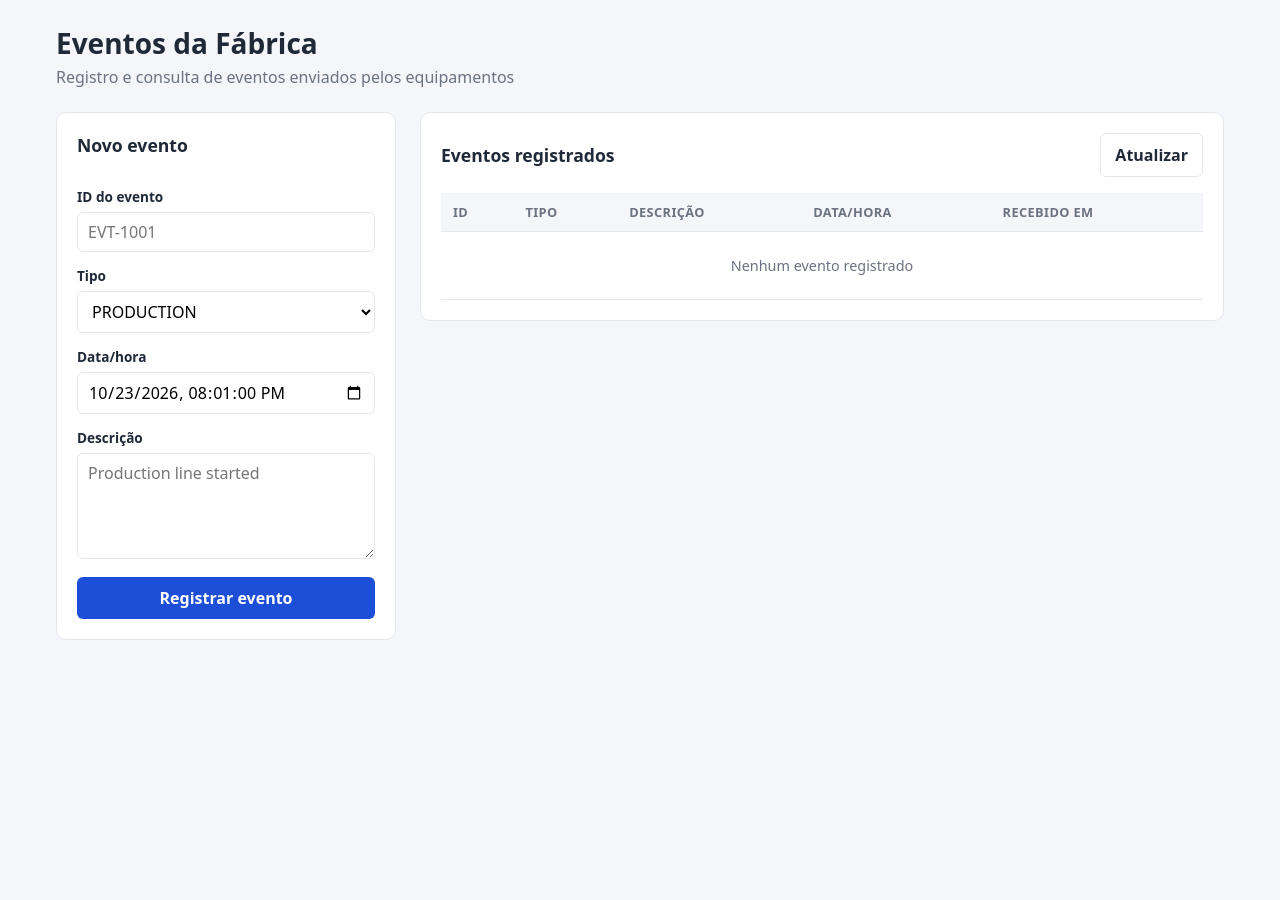
Test: App › exibe mensagem de sucesso ao registrar evento
Expected: the text "Nenhum evento registrado" is shown, 441,232 -> 1203,300
Step 1. Type "EVT-9" into the field labelled "ID do evento" → (226,232), box 77,212 -> 375,252
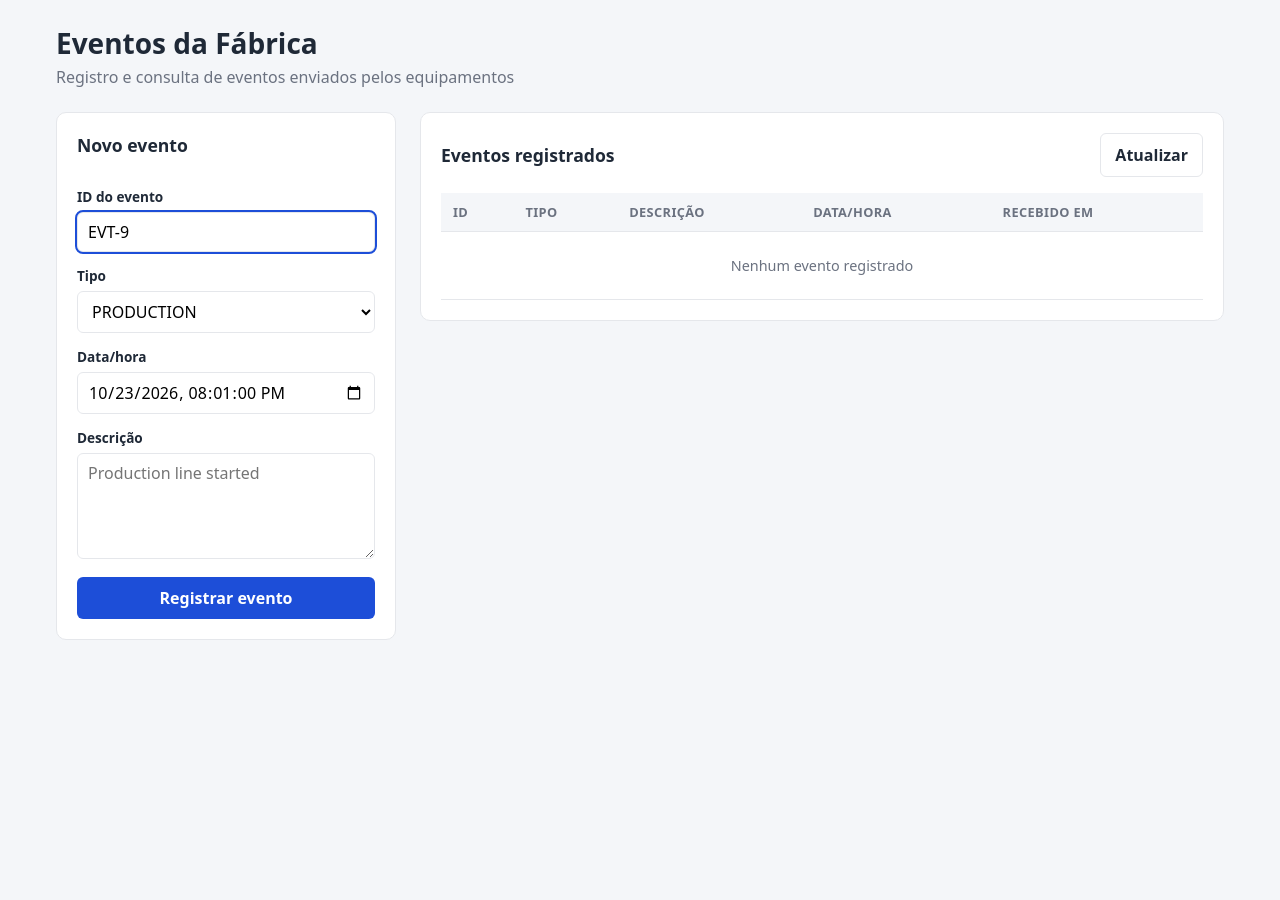
Step 2. Type "Linha iniciada" into the text box labelled "Descrição" → (226,506), box 77,453 -> 375,559
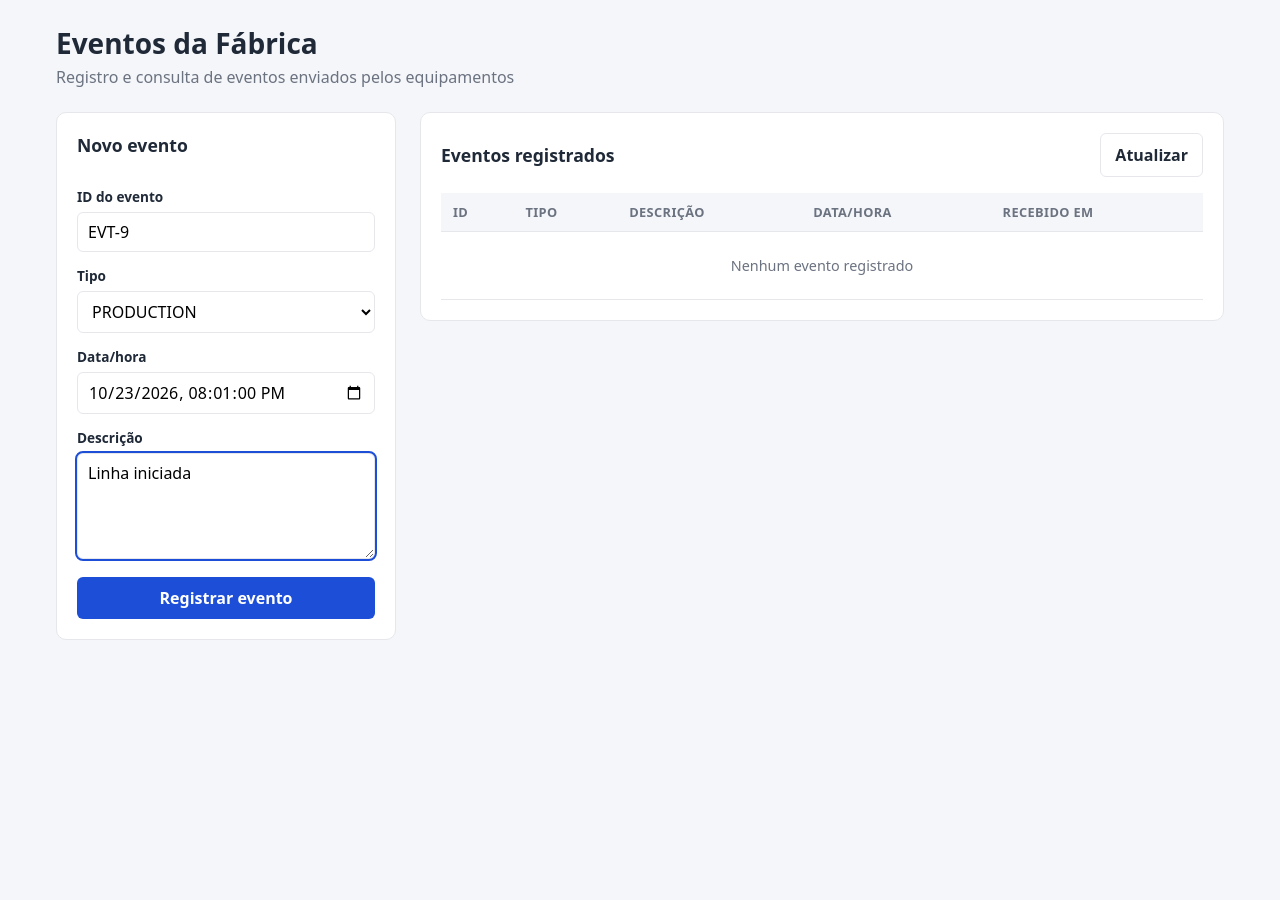
Step 3. Click the button "Registrar evento" → (226,598), box 77,577 -> 375,619
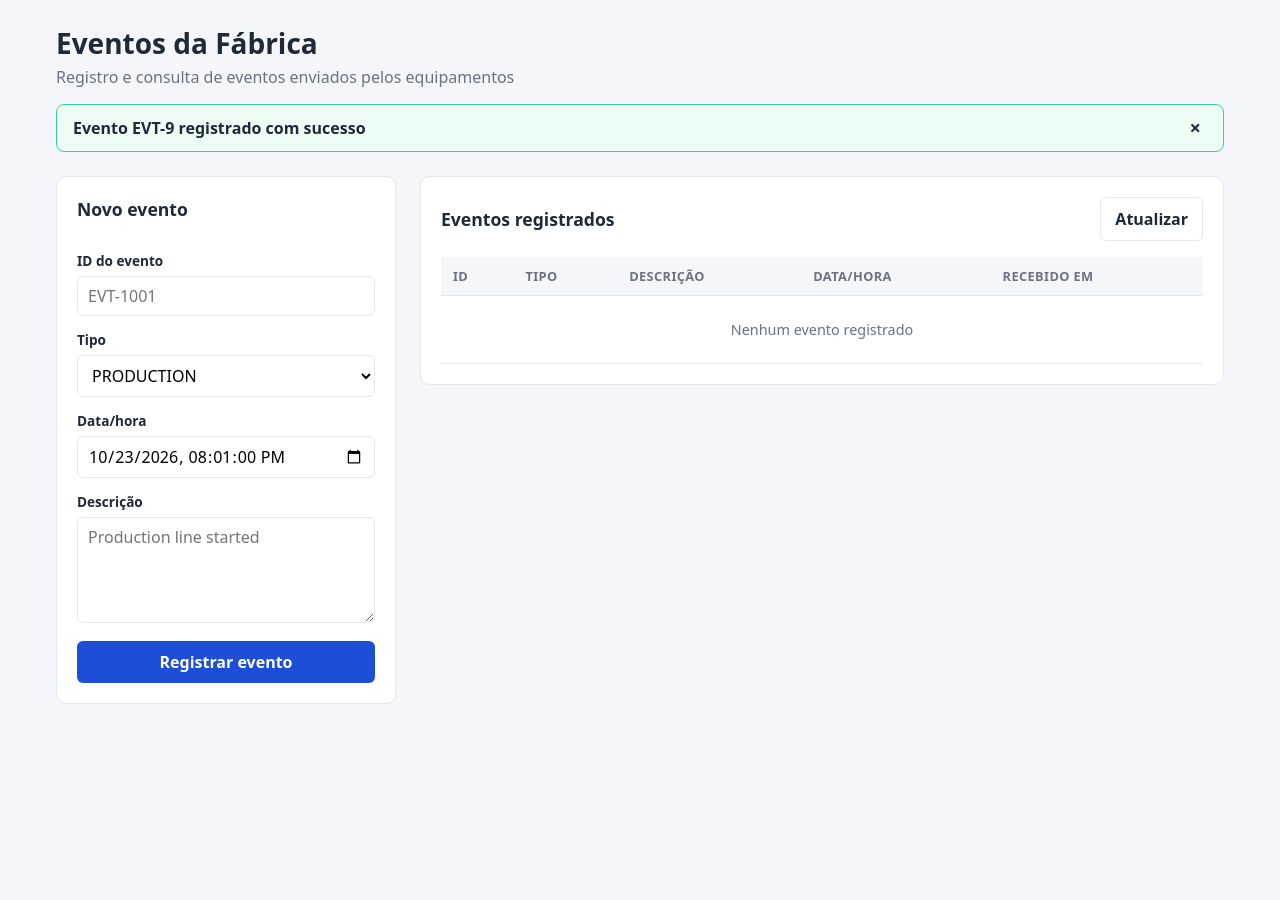
Expected: the text "Evento EVT-9 registrado com sucesso" is shown, 73,117 -> 366,139
